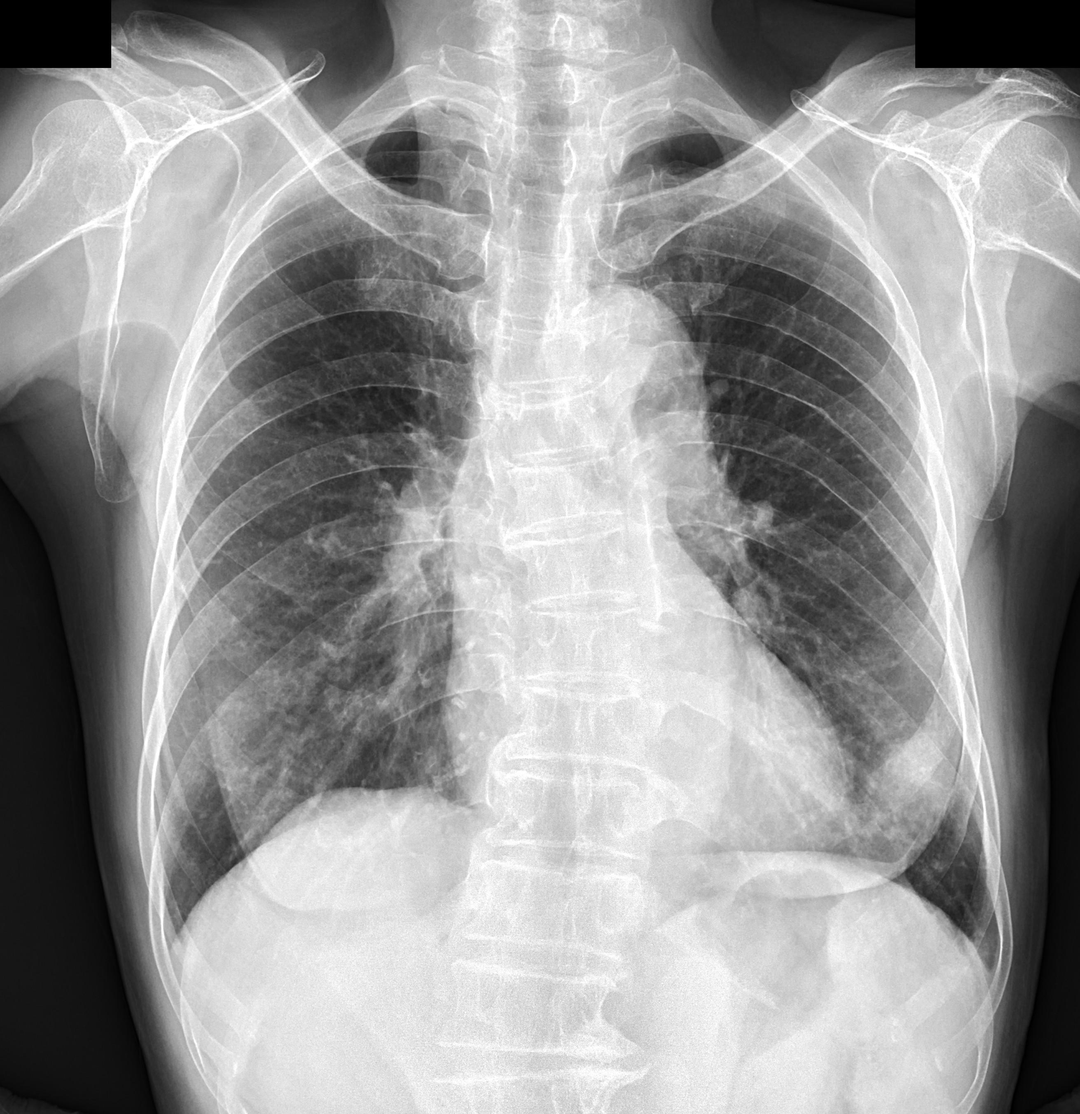Aortic enlargement: (557, 286, 706, 444)
